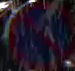No Stopping: (6, 0, 74, 70)
